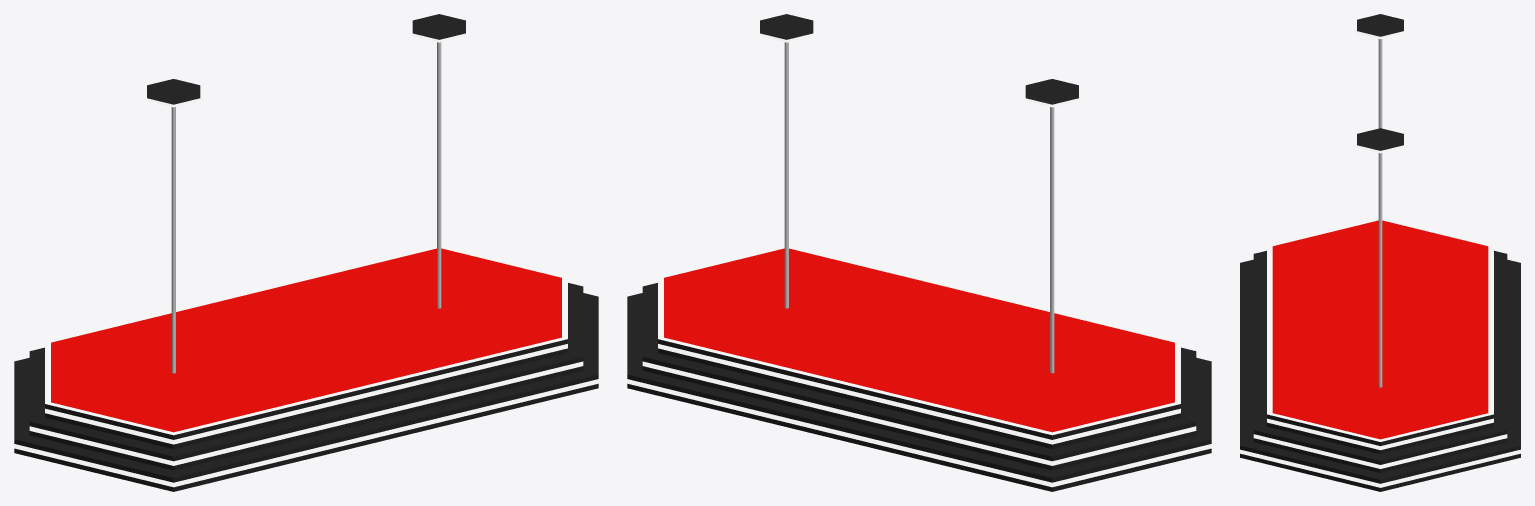
Rendered from Hex_Double_Pole.glb.
3 views of the same model, side by side, from view 1: azimuth 30°, elevation 25°; view 2: azimuth 150°, elevation 25°; view 3: azimuth 270°, elevation 25° (orthographic). The views are drawn at different scales.
Visible parts, largest first — view 1: Circle.006; view 2: Circle.006; view 3: Circle.006.
Part boxes in pixels (x1=…): Circle.006: x1=14, y1=14, x2=598, y2=491; Circle.006: x1=627, y1=14, x2=1211, y2=491; Circle.006: x1=1240, y1=14, x2=1520, y2=491.
Size of what is drawn, in the model's own units: 6.71 by 3.54 by 3.17.
